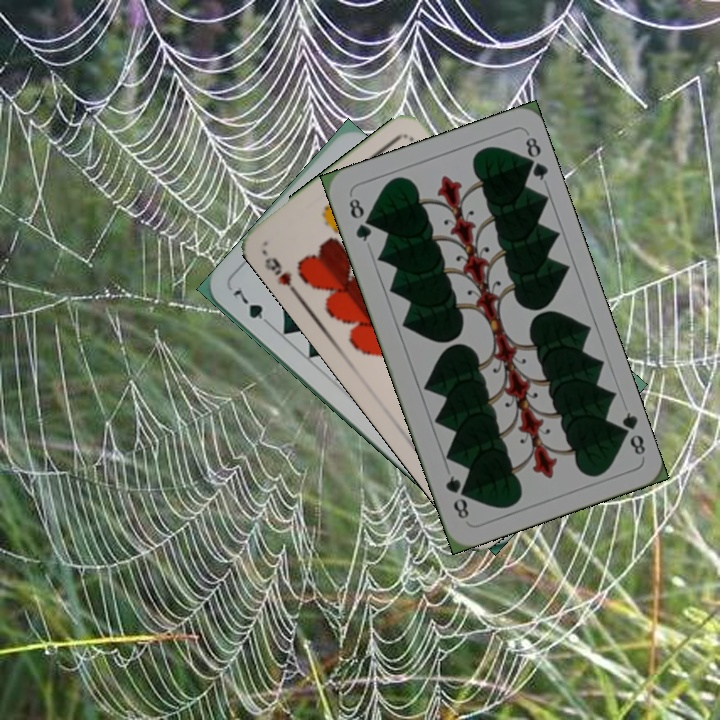G7: (229, 283, 276, 330)
G8: (612, 408, 648, 458), (344, 194, 374, 245)
H9: (259, 247, 301, 298)
